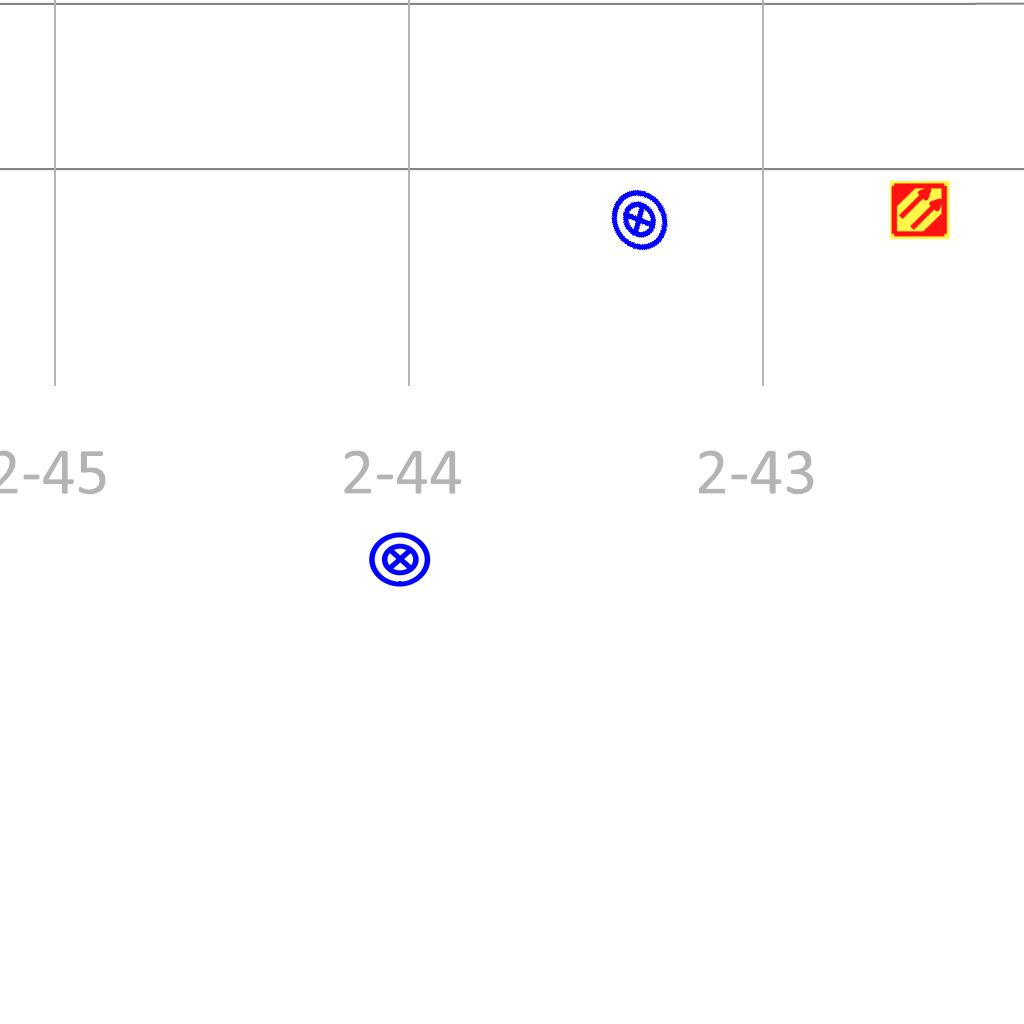ASR_Ansaugrauchmelder: (889, 179, 951, 241)
Taster_beleuchtet: (594, 175, 684, 265), (367, 526, 433, 592)
